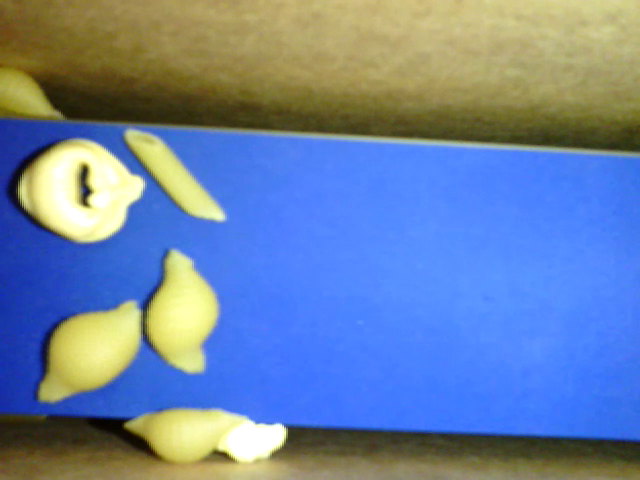penne: (127, 125, 231, 227)
shell: (33, 296, 145, 406), (146, 247, 223, 375), (125, 405, 256, 462), (1, 66, 75, 123)
tortellini: (9, 133, 144, 245)
